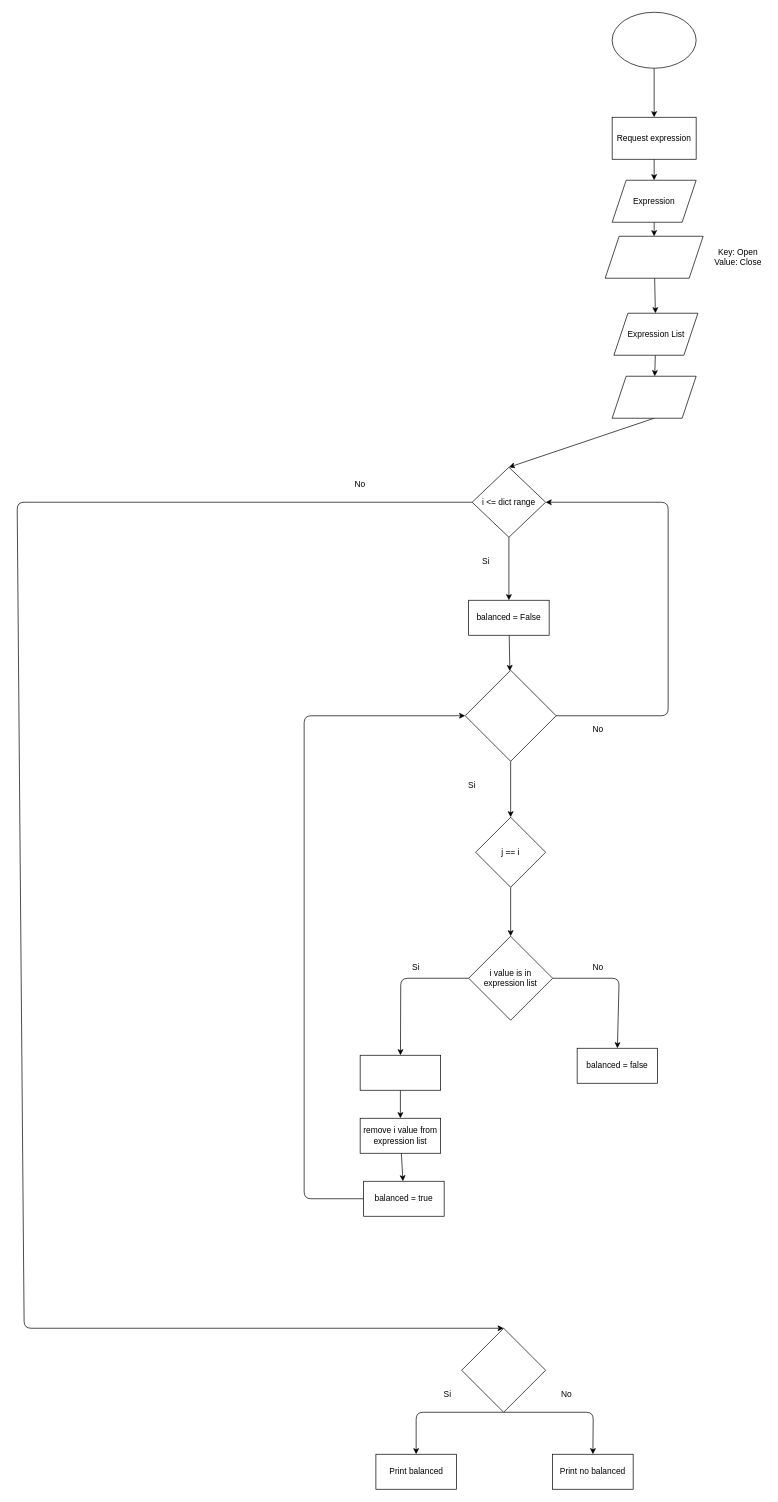
Some shapes in this 778 by 1502 pixel diagram are drawn without their labels. The shapes that lost their labels are listed below. From the top down, each one's box as (x1, y1, x2, y2) in pixels, then its label:
(611, 12, 696, 68): Start
(604, 236, 703, 278): Parentrhesis Dict
(611, 376, 696, 418): Bool Balanced
(464, 670, 556, 761): j <= expression List
(359, 1055, 441, 1090): remove i from expression list
(461, 1328, 546, 1412): Is Balanced
